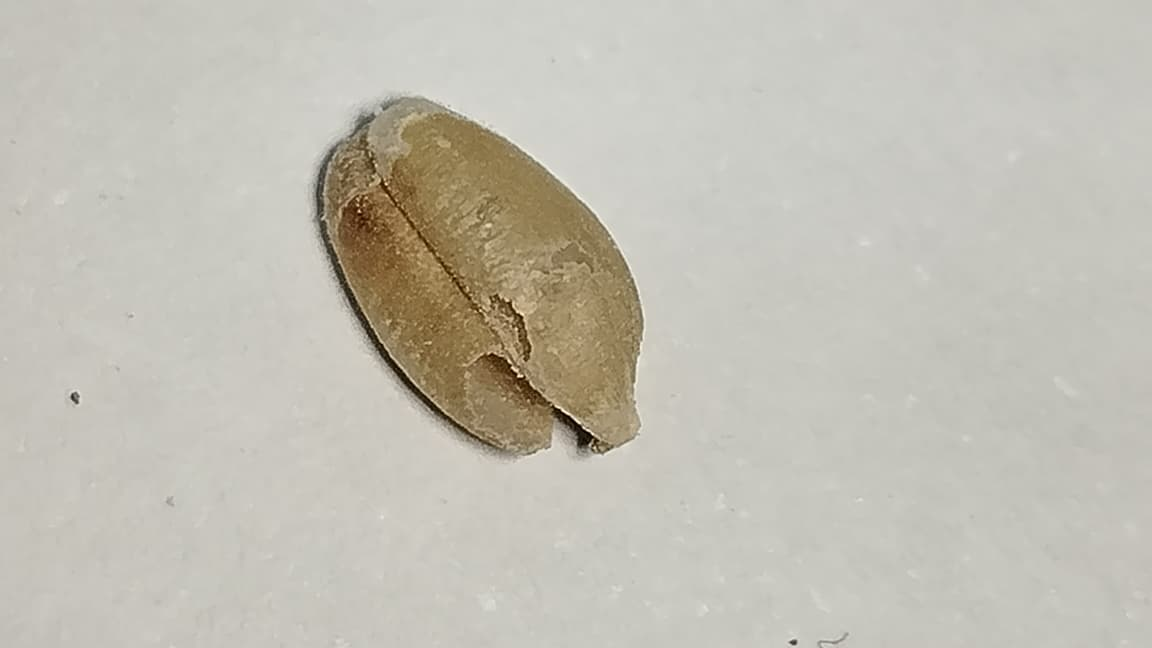damage: (320, 97, 642, 453)
insectdamage: (422, 231, 649, 464)
staindamage: (326, 141, 401, 256)
